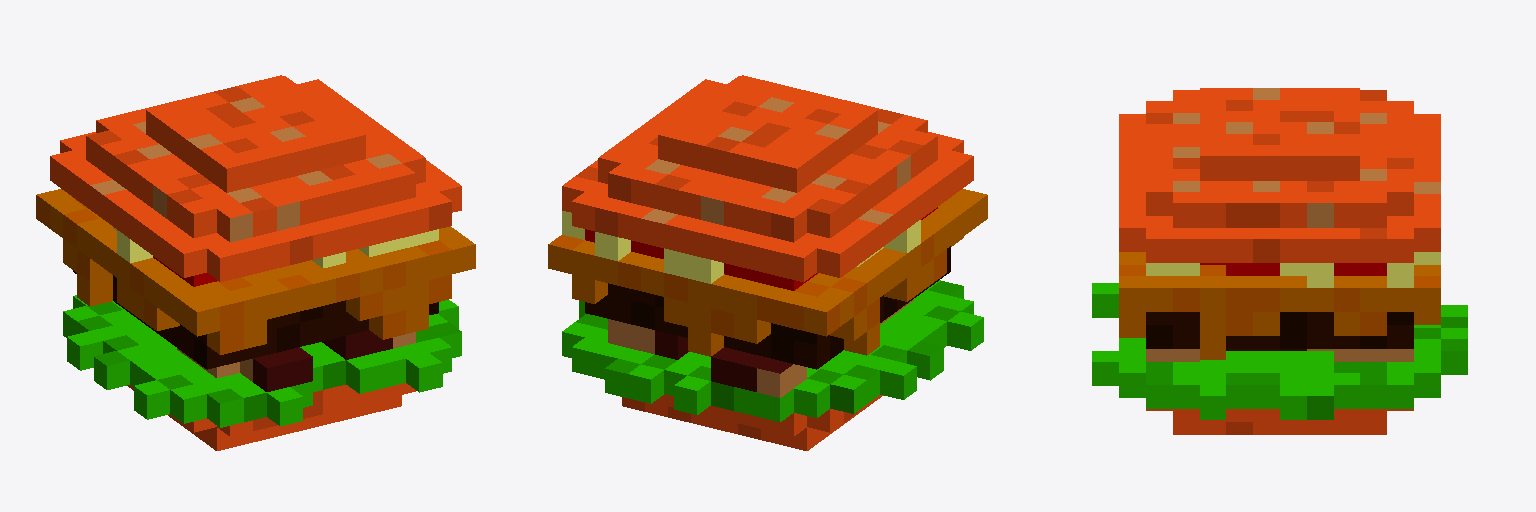
File: borgir-kostky.obj
3 renders of one model, left to right at view 1: azimuth 30°, elevation 25°; view 2: azimuth 150°, elevation 25°; view 3: azimuth 270°, elevation 25°, orthographic.
Visible parts, largest first — view 1: Cube.001_Cube.002; view 2: Cube.001_Cube.002; view 3: Cube.001_Cube.002.
Boxes of the visible parts, box(x1,y1,x2,y2) form: Cube.001_Cube.002: box(36, 75, 475, 450); Cube.001_Cube.002: box(548, 75, 987, 450); Cube.001_Cube.002: box(1092, 88, 1467, 434).
Bounding box in the file's own units: 14 × 11 × 14.